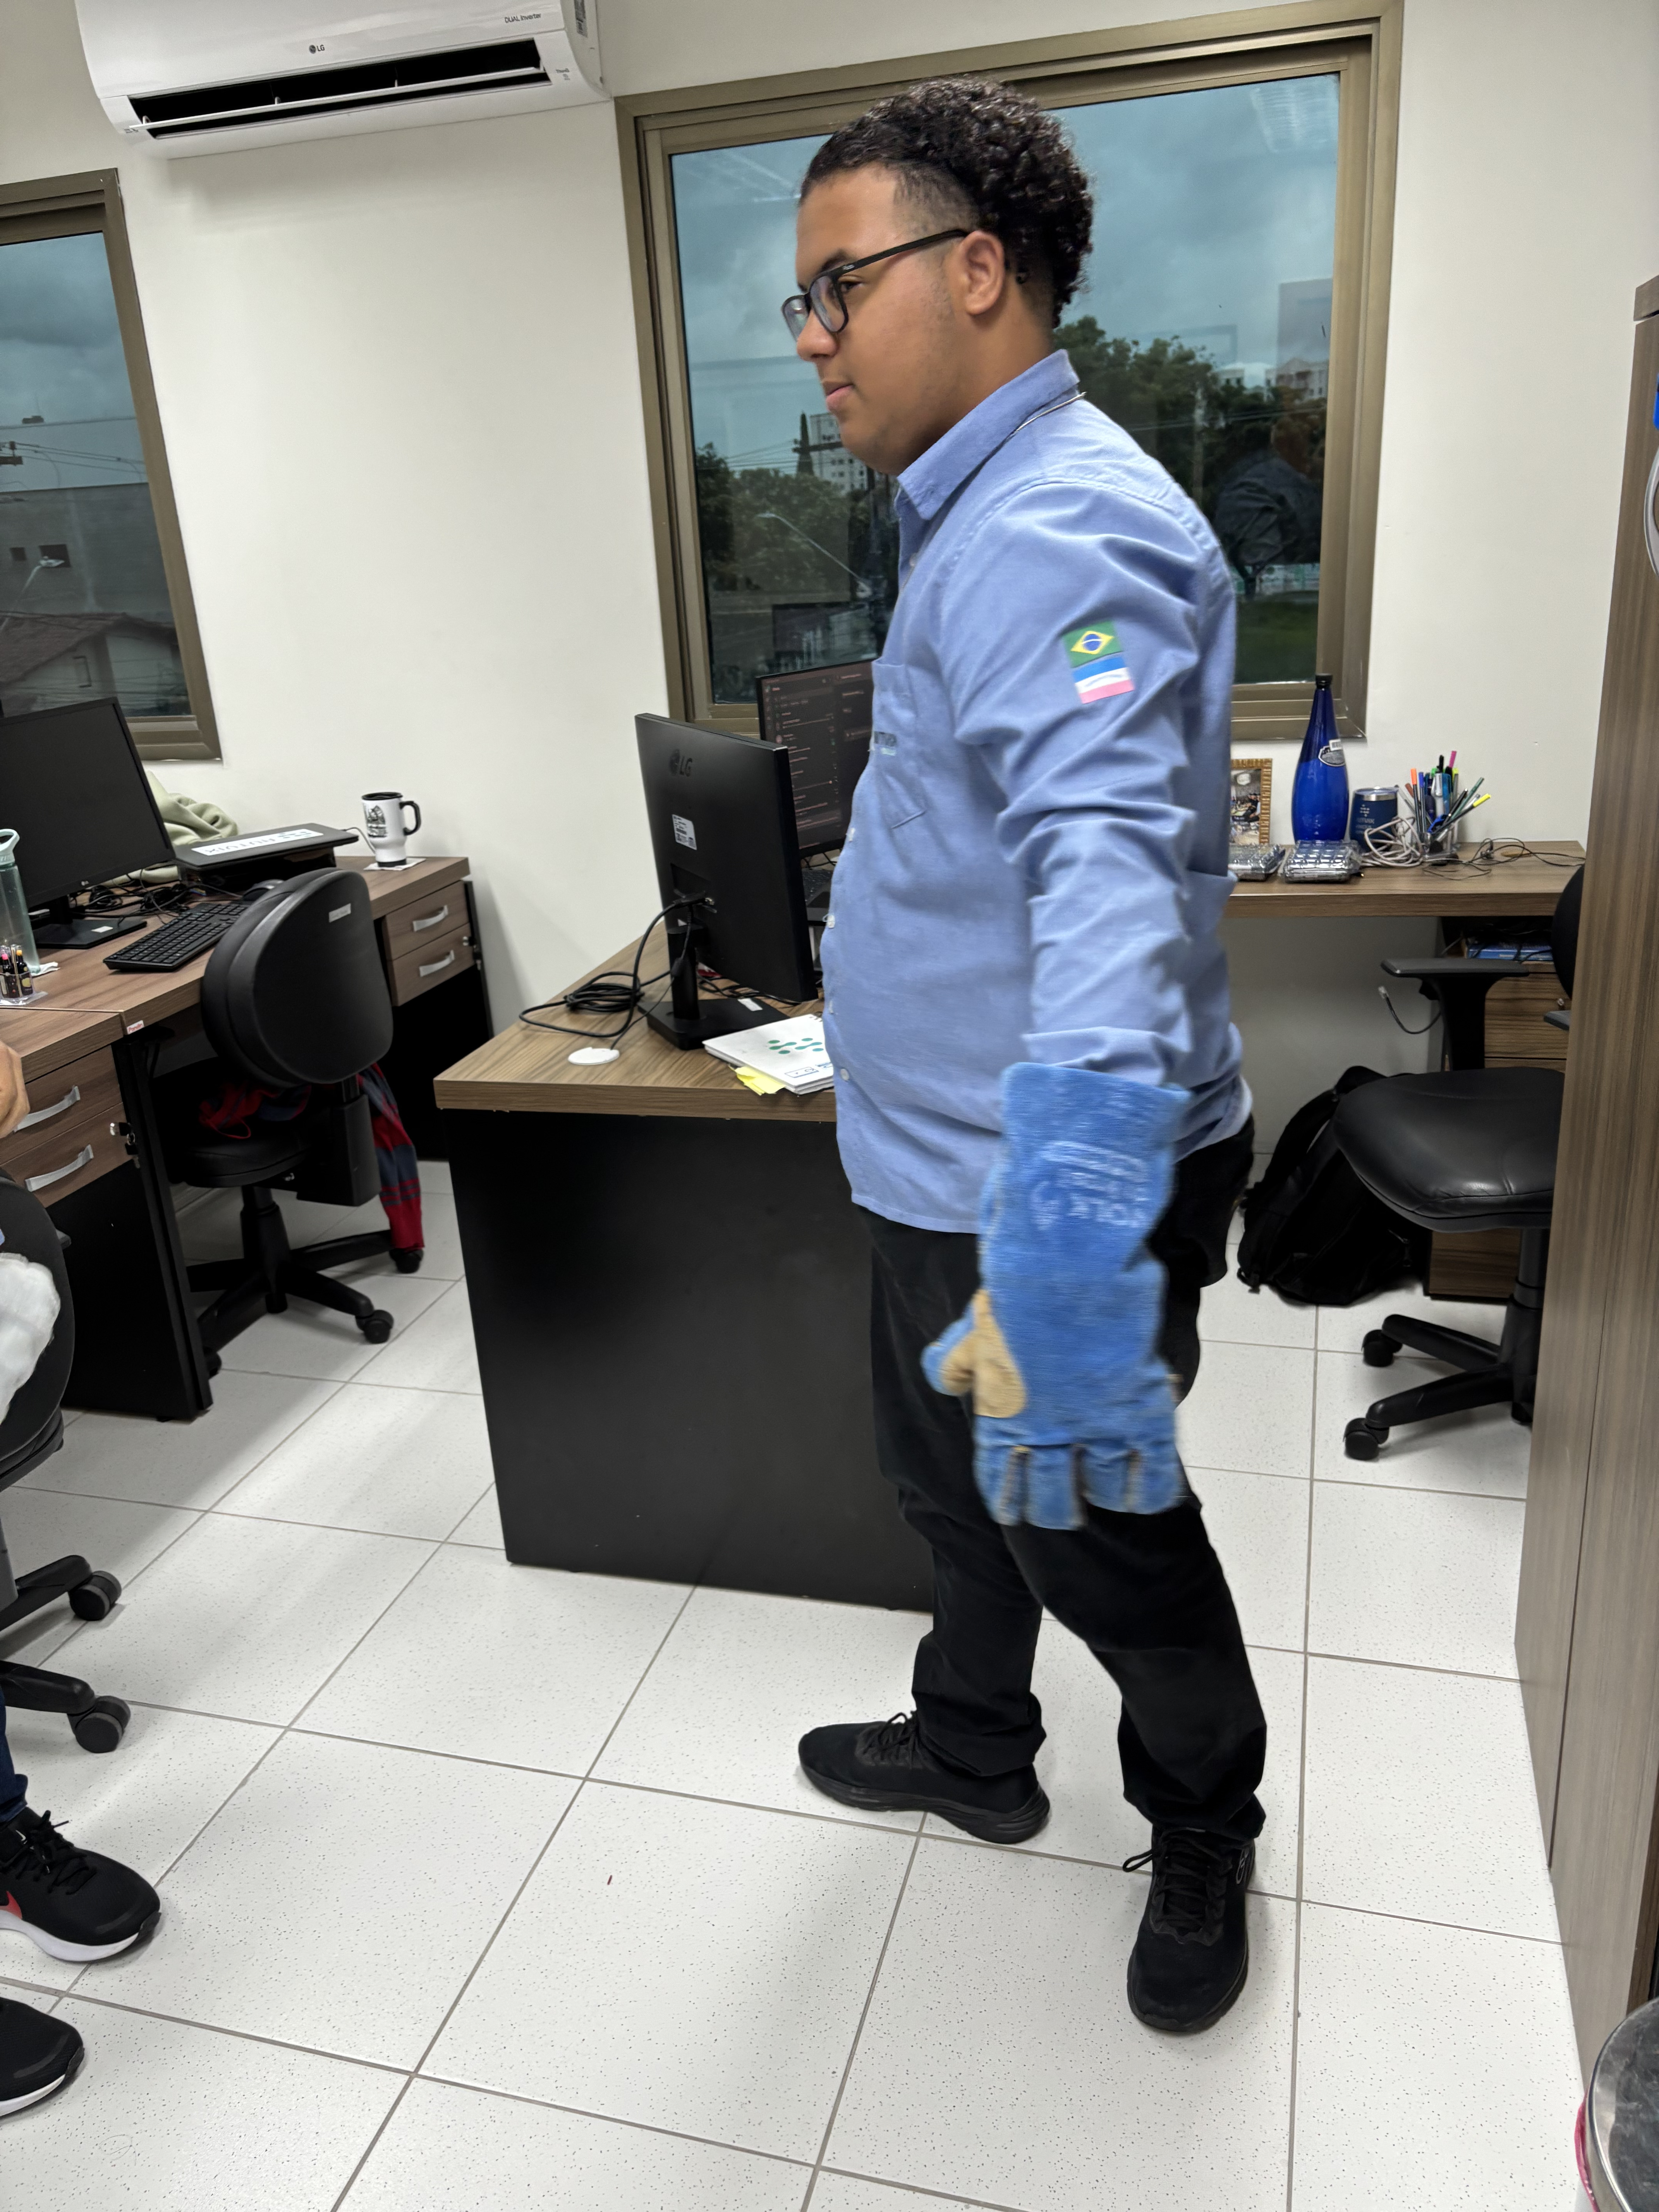Gloves: (934, 1059, 1208, 1533)
